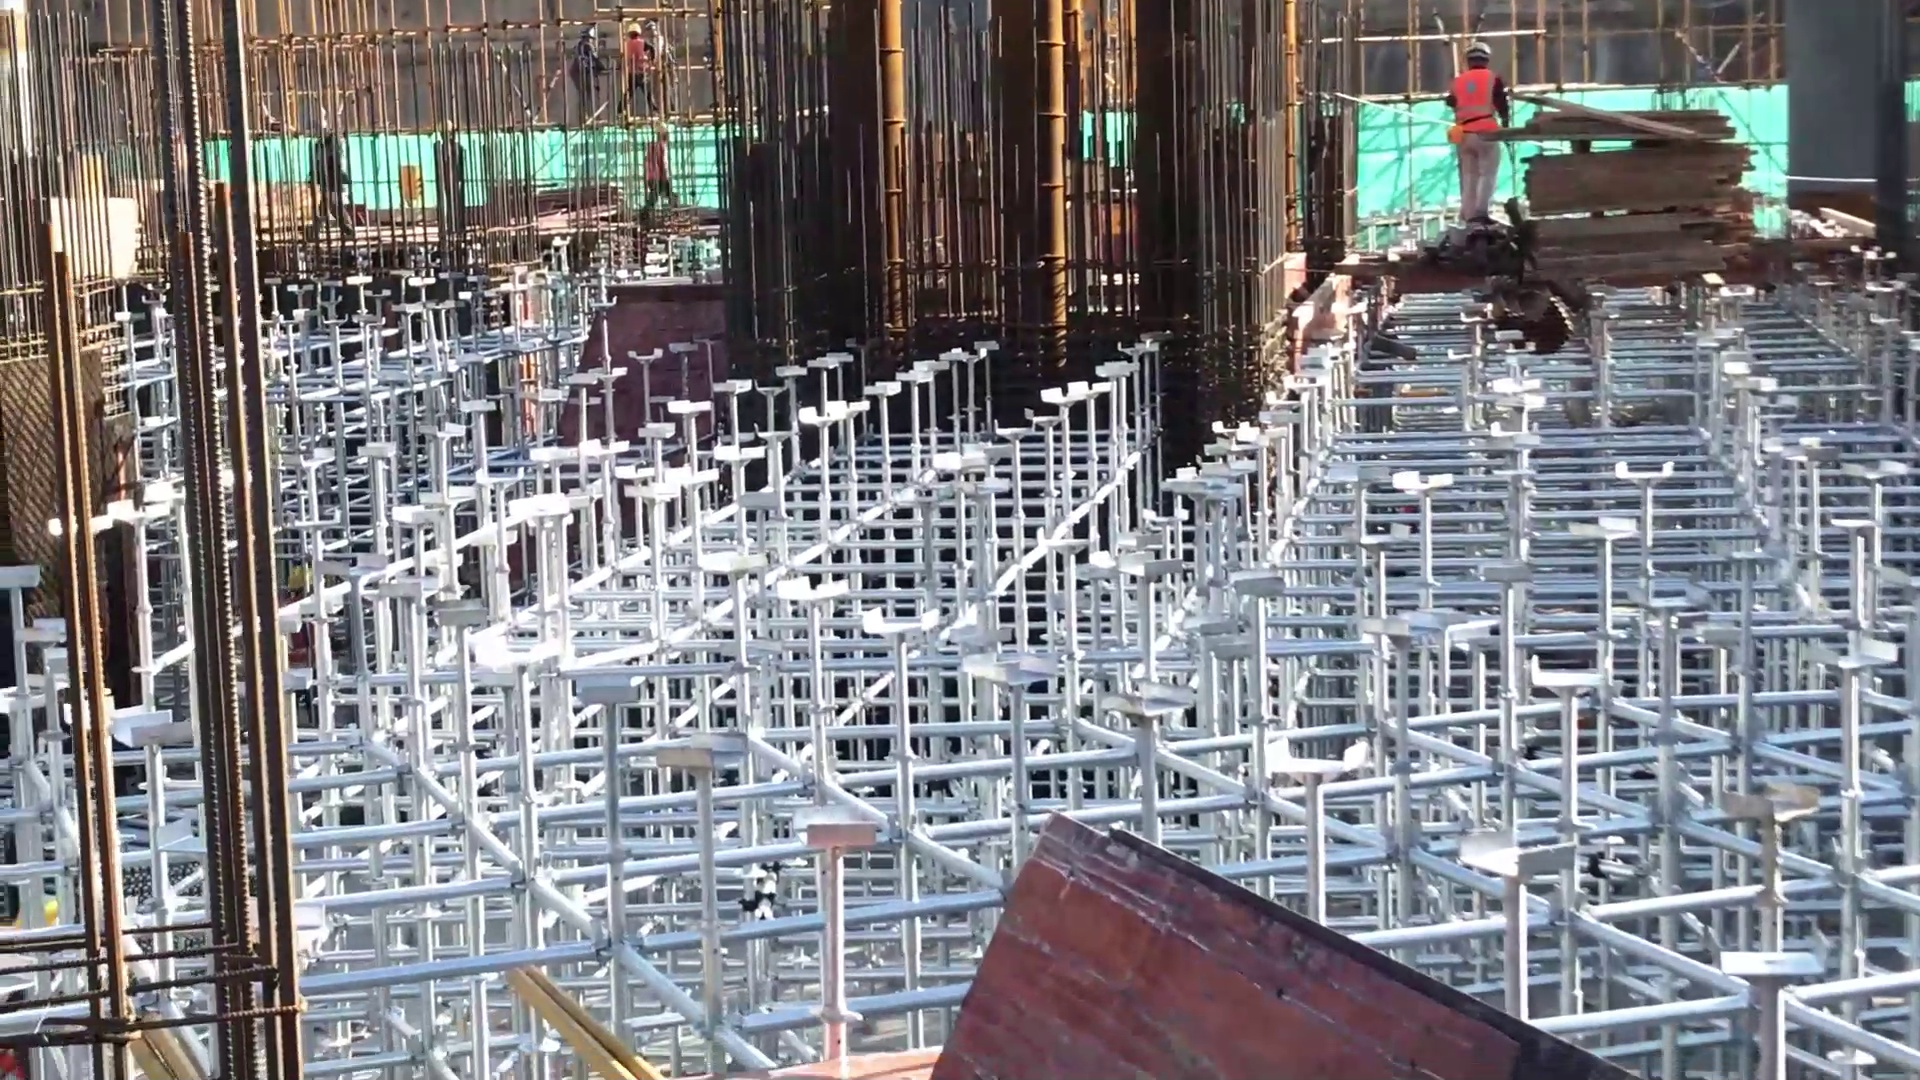vest: (1447, 65, 1509, 135), (625, 36, 658, 74), (644, 138, 663, 166)
